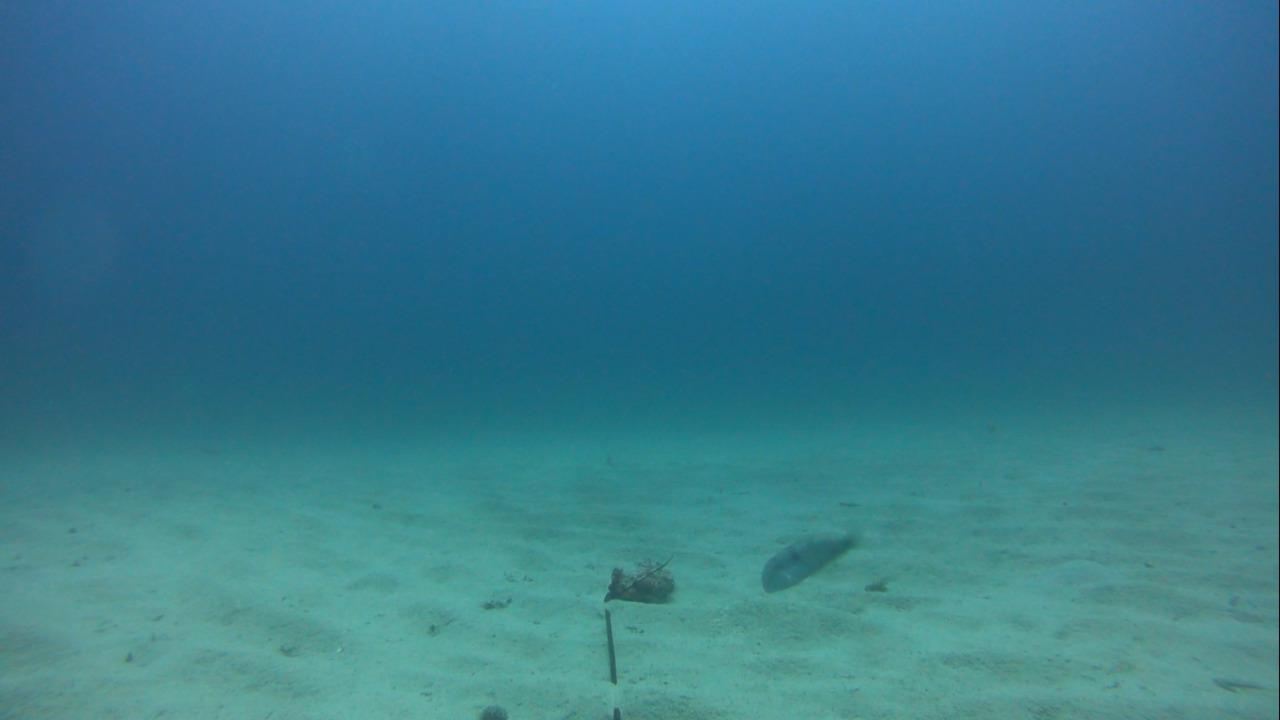raor: (758, 527, 862, 597)
